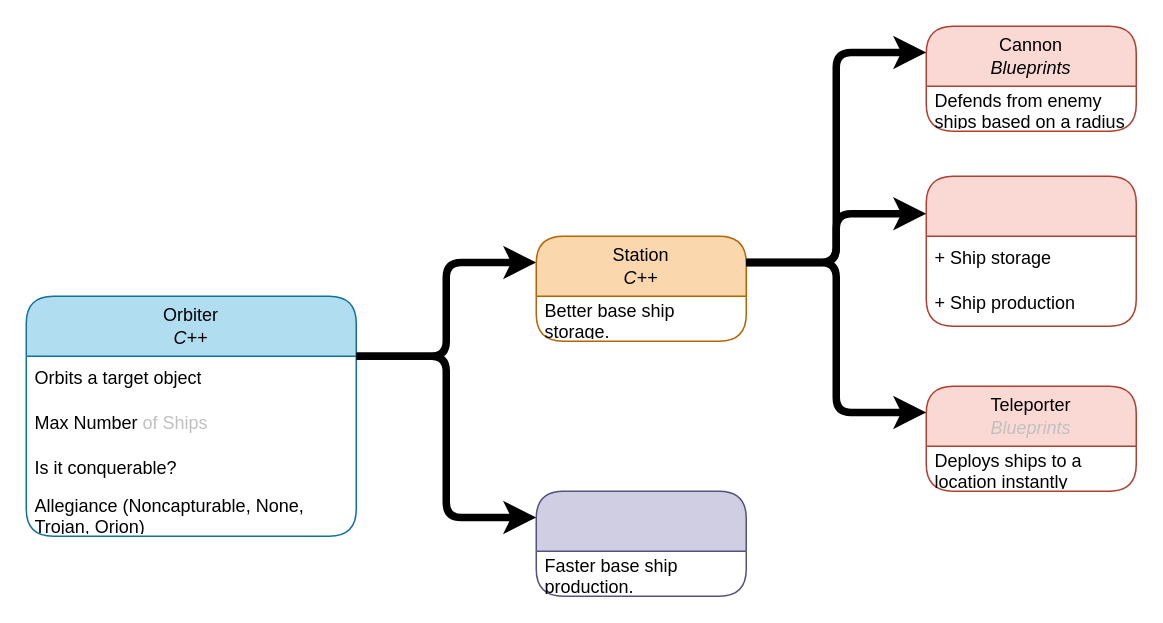
The diagram is 1163 pixels wide and 623 high, and some of its shapes have lost their labels. The box of each missing label's shape, as (x1, y1, x2, y2) in pixels:
Planet C++: (535, 490, 746, 596)
Yard Blueprints: (925, 175, 1136, 326)
